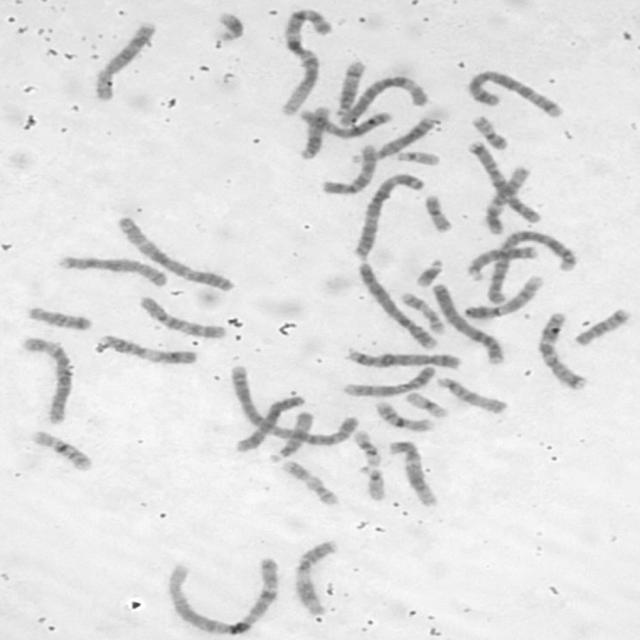A1: (162, 554, 283, 636), (275, 6, 334, 117)
A2: (225, 362, 362, 449), (482, 227, 580, 305)
A3: (111, 212, 238, 294), (348, 171, 426, 260)
B4: (353, 258, 441, 352), (429, 280, 506, 366)
B5: (464, 68, 564, 118), (342, 345, 464, 370)
C10: (134, 294, 228, 339), (320, 142, 379, 196)
C11: (290, 536, 342, 616), (96, 333, 200, 366)
C12: (385, 438, 441, 509), (481, 164, 531, 236)
C6: (16, 334, 76, 425), (333, 73, 432, 128)
C7: (465, 144, 546, 225), (534, 309, 590, 392)
C8: (86, 21, 158, 103), (46, 250, 170, 289)
C9: (459, 272, 545, 321), (339, 363, 439, 398)
D13: (352, 114, 437, 164), (463, 244, 539, 281)
D14: (292, 105, 329, 168), (334, 58, 367, 122)
D15: (432, 374, 510, 415), (266, 408, 316, 463)
E16: (28, 428, 94, 472), (372, 398, 435, 432)
E17: (277, 457, 341, 507), (398, 289, 447, 335)
E18: (571, 306, 634, 347), (24, 303, 94, 332)
F19: (401, 390, 450, 419), (350, 427, 382, 467)
F20: (468, 111, 510, 151), (420, 192, 455, 234)
G21: (211, 8, 247, 42), (412, 256, 445, 289)
G22: (356, 463, 389, 502), (391, 148, 441, 167)
X: (232, 394, 305, 453), (296, 107, 392, 139)
